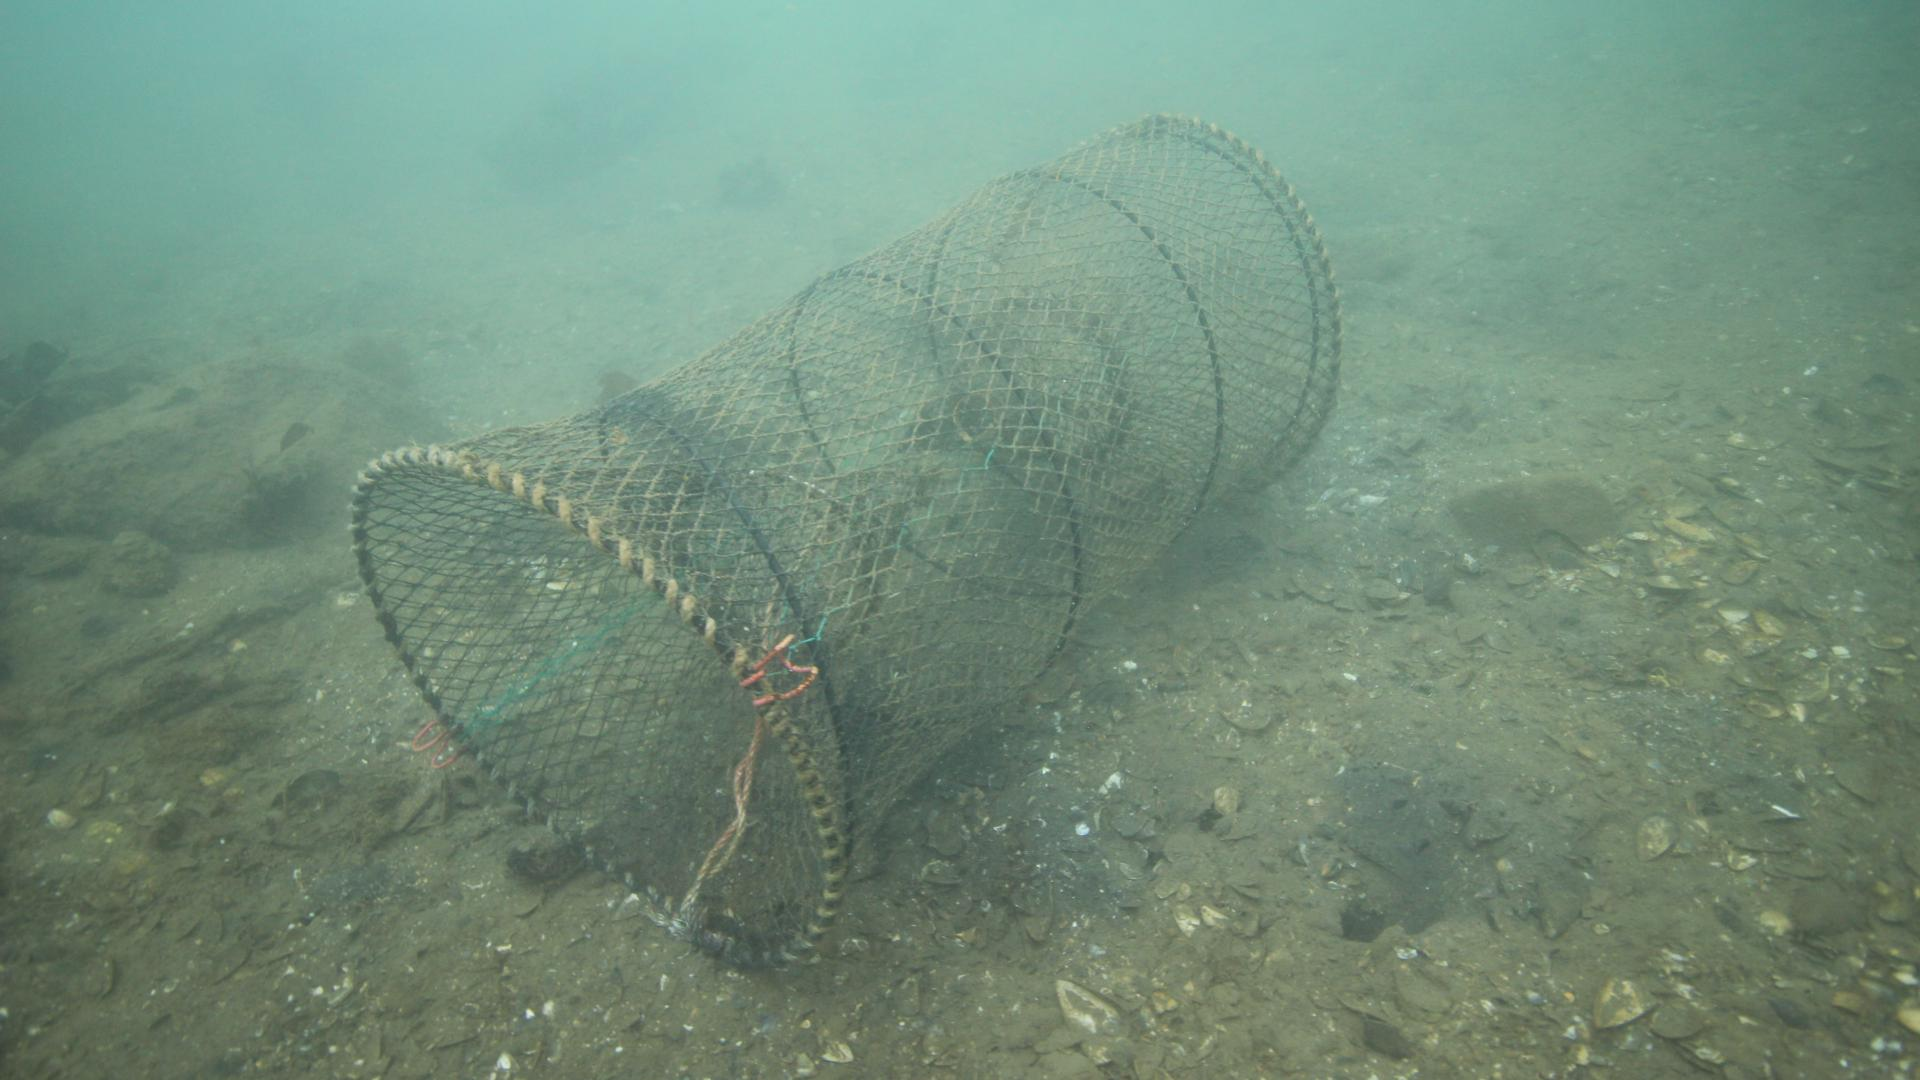spring fish trap: (344, 105, 1346, 975)
